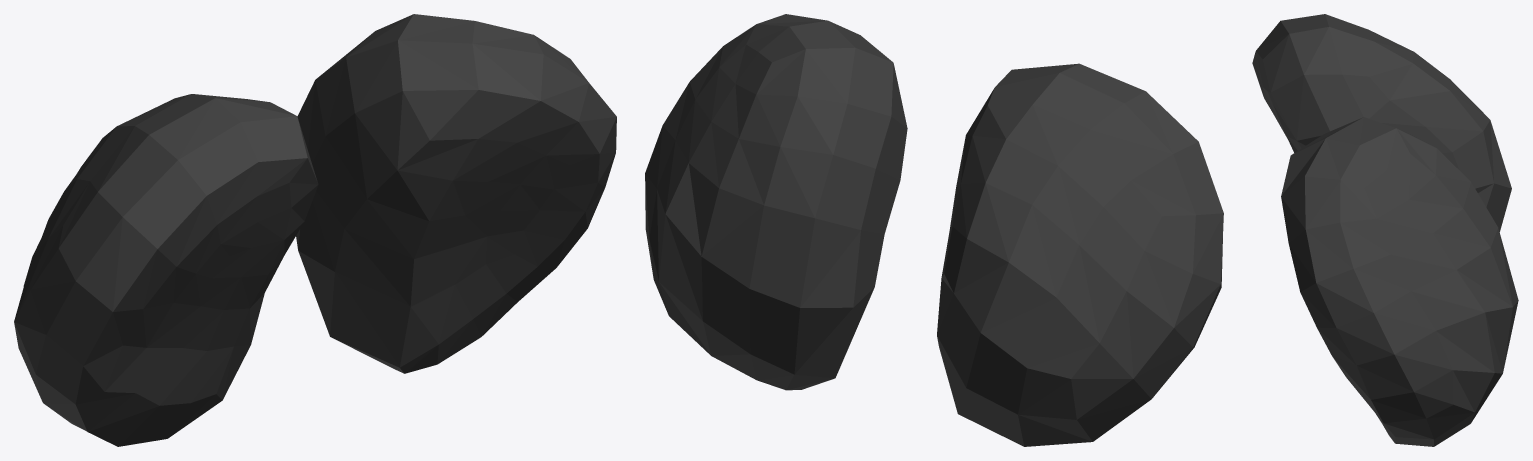
Rendered from Hindlimb_Sesamoids_R.glb.
3 views of the same model, side by side, from view 1: azimuth 30°, elevation 25°; view 2: azimuth 150°, elevation 25°; view 3: azimuth 270°, elevation 25° (orthographic). The views are drawn at different scales.
Parts seen in each view (by area): view 1: Hindlimb_Sesamoids_R; view 2: Hindlimb_Sesamoids_R; view 3: Hindlimb_Sesamoids_R.
Boxes of the visible parts, box(x1,y1,x2,y2) form: Hindlimb_Sesamoids_R: box(14, 14, 616, 446); Hindlimb_Sesamoids_R: box(645, 14, 1223, 446); Hindlimb_Sesamoids_R: box(1252, 14, 1518, 446).
Size of the model in its own units: 0.0626 by 0.0371 by 0.0289.
1 material, 1 textured.
